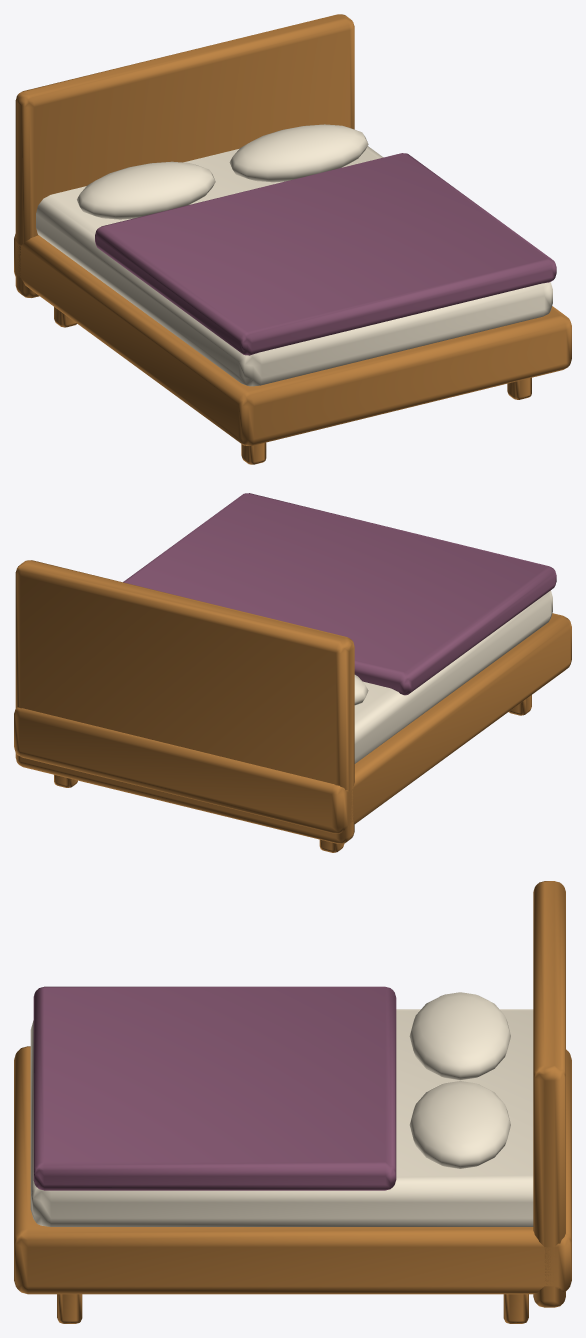
Rendered from home-double-bed.glb.
The picture shows the model from 3 angles, top to bottom: view 1: azimuth 30°, elevation 25°; view 2: azimuth 150°, elevation 25°; view 3: azimuth 270°, elevation 25°; orthographic projection. The views are drawn at different scales.
Visible parts, largest first — view 1: interior_3_wood.001, interior_3_cloth.001, interior_3_ivory.001; view 2: interior_3_wood.001, interior_3_cloth.001, interior_3_ivory.001; view 3: interior_3_cloth.001, interior_3_wood.001, interior_3_ivory.001.
Boxes of the visible parts, box(x1,y1,x2,y2) form: interior_3_wood.001: box(14, 14, 571, 464); interior_3_cloth.001: box(95, 153, 556, 355); interior_3_ivory.001: box(36, 124, 552, 386); interior_3_wood.001: box(14, 560, 571, 852); interior_3_cloth.001: box(123, 493, 556, 695); interior_3_ivory.001: box(354, 590, 552, 763); interior_3_cloth.001: box(33, 986, 396, 1190); interior_3_wood.001: box(14, 881, 571, 1323); interior_3_ivory.001: box(30, 992, 533, 1226).
Bounding box in the file's own units: 1.8 × 1.17 × 2.2.
